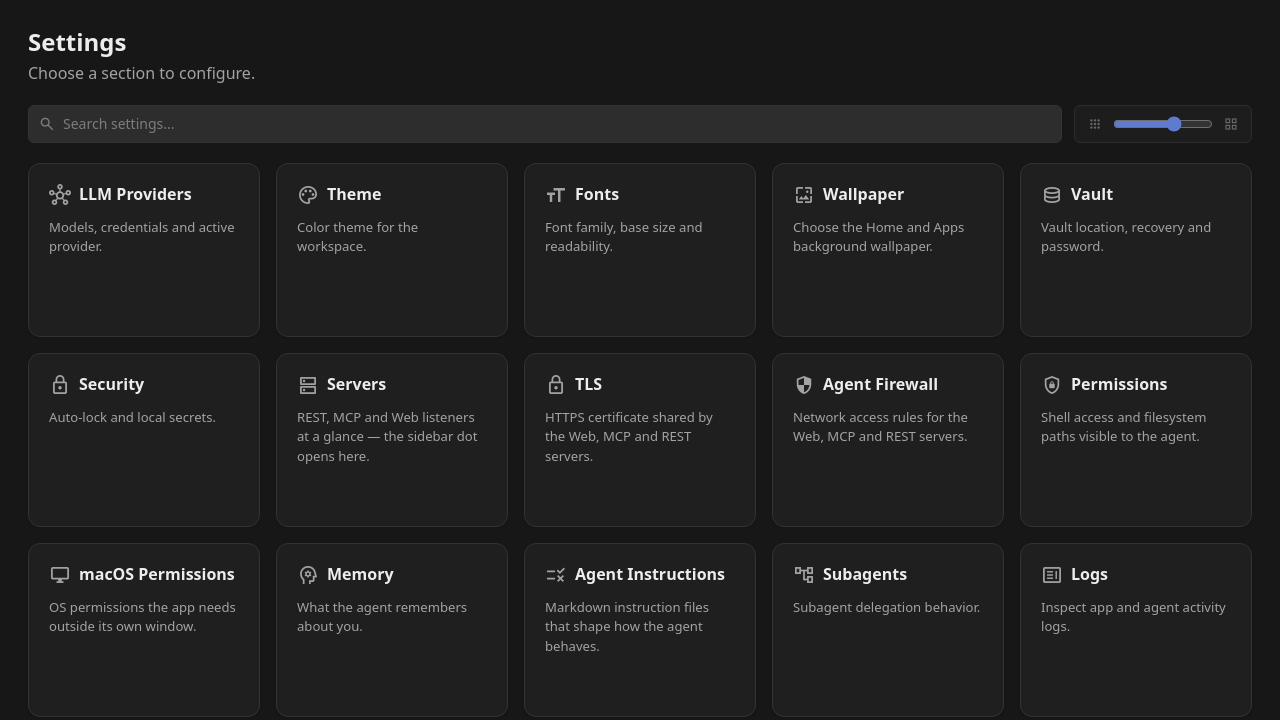
Test case: SettingsModule › uses the Apps template with search and resizable cards
Expected: the slider named "Settings card size" is shown, [1113, 116, 1213, 132]
Expected: the button named "Set minimum card size" is shown, [1083, 112, 1107, 136]
Type "vault" into the field labelled "Search settings" at (545, 124), box [28, 105, 1062, 143]
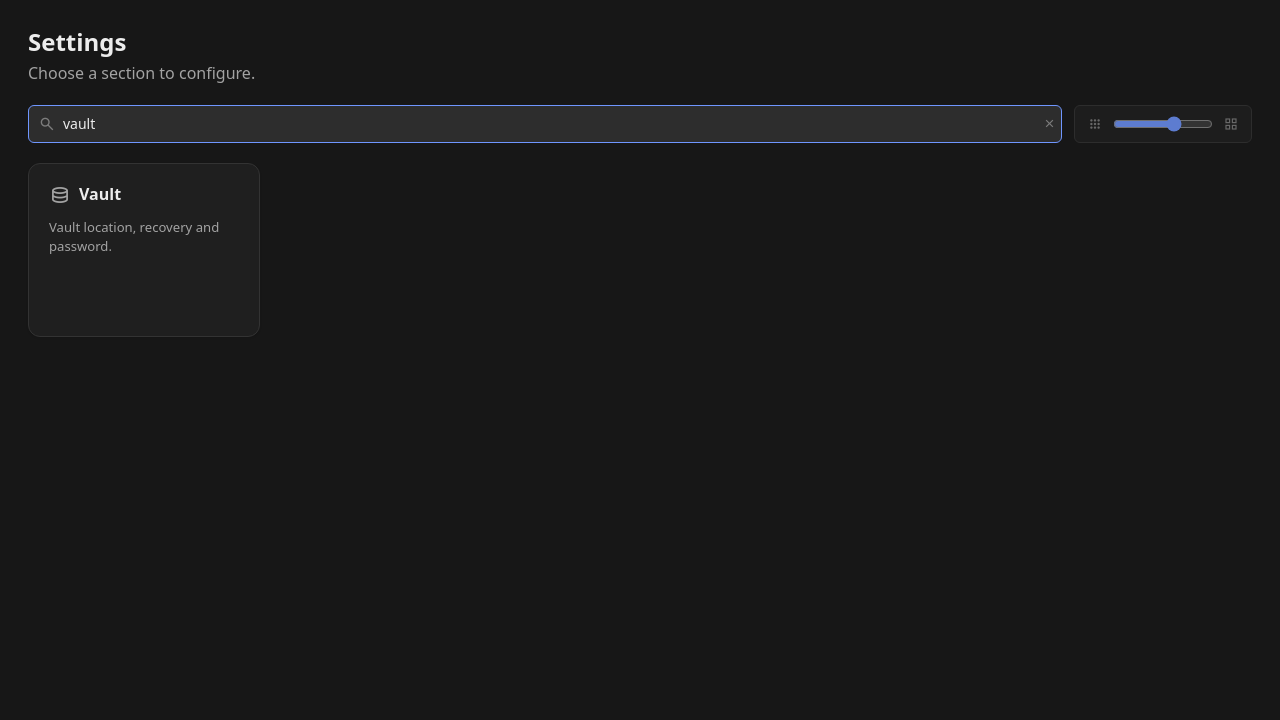
Expected: the button "Vault" is shown, [28, 163, 260, 337]
Now the button "Security" is gone
